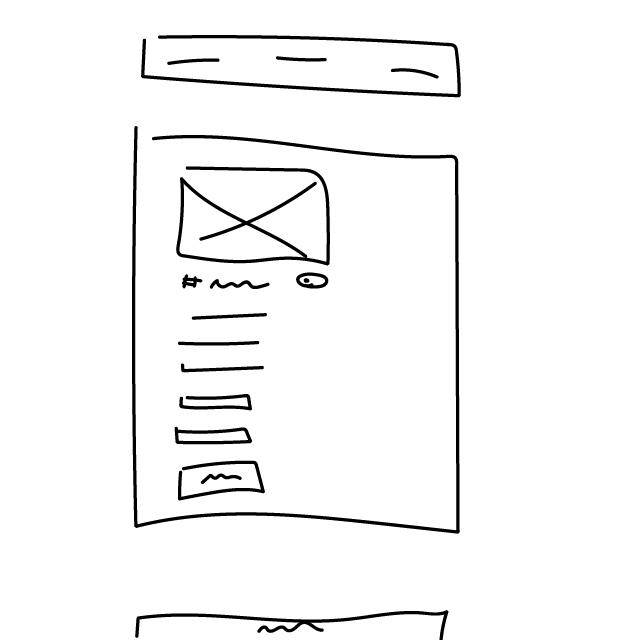button: (172, 458, 274, 502)
checkbox: (294, 270, 334, 291)
container: (117, 121, 491, 557)
footer: (131, 604, 458, 640)
frame: (172, 163, 334, 268)
heading: (179, 271, 275, 296)
input: (175, 391, 260, 415), (172, 423, 256, 447)
nav: (137, 27, 472, 101)
text: (174, 312, 280, 380)
